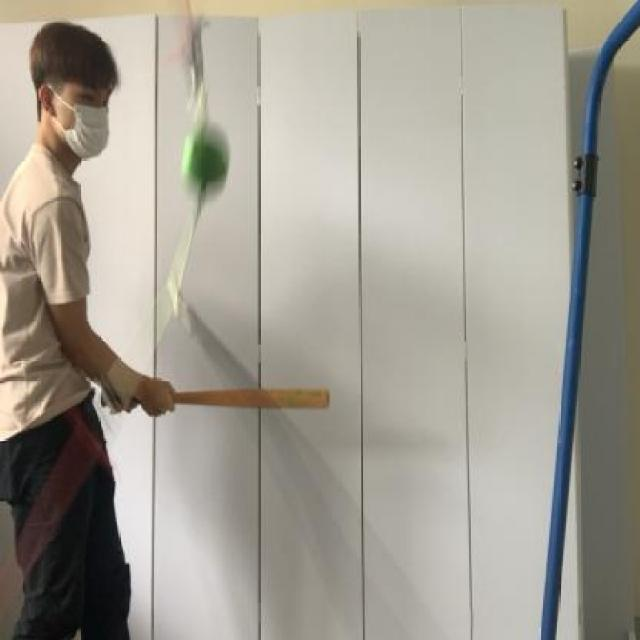baseball: (180, 101, 228, 197)
